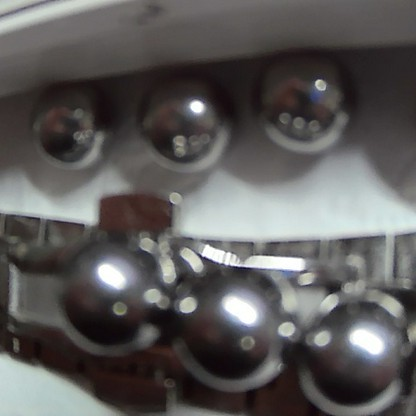ironball: (167, 255, 293, 401), (49, 236, 158, 360), (248, 44, 360, 163), (309, 284, 401, 409), (140, 73, 220, 172), (18, 85, 108, 170)
